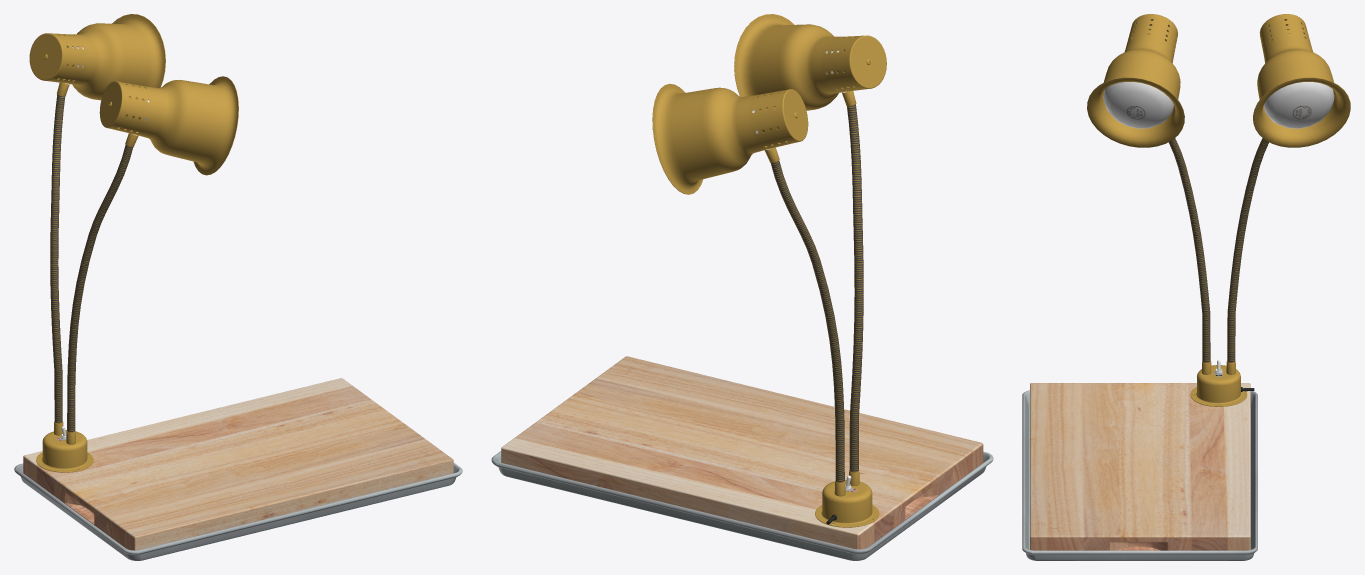
3 renders of one model, left to right at view 1: azimuth 30°, elevation 25°; view 2: azimuth 150°, elevation 25°; view 3: azimuth 270°, elevation 25°, orthographic. The views are drawn at different scales.
Parts seen in each view (by area): view 1: SKU_164WCB1624, 177HLDBL24BK1, BUNQRTR:BUNQRTR; view 2: SKU_164WCB1624, 177HLDBL24BK1, BUNQRTR:BUNQRTR; view 3: SKU_164WCB1624, 177HLDBL24BK1, BUNQRTR:BUNQRTR.
Boxes of the visible parts, x1,y1,x2,y2 form: SKU_164WCB1624: [23, 378, 453, 550]; 177HLDBL24BK1: [29, 14, 238, 472]; BUNQRTR:BUNQRTR: [14, 463, 462, 560]; SKU_164WCB1624: [501, 356, 983, 549]; 177HLDBL24BK1: [652, 14, 886, 527]; BUNQRTR:BUNQRTR: [491, 451, 993, 560]; SKU_164WCB1624: [1030, 383, 1250, 550]; 177HLDBL24BK1: [1087, 14, 1350, 406]; BUNQRTR:BUNQRTR: [1022, 390, 1257, 560].
Size of the model in its own units: 66.2 by 78.93 by 56.65.
Materials: 3 (3 with a texture image).
